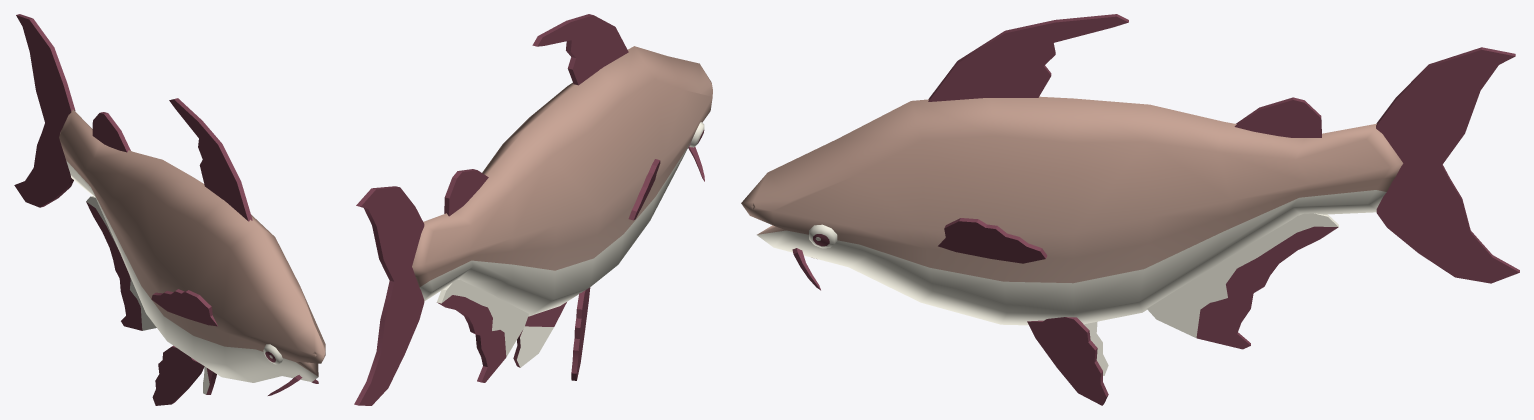
3 views of the same model, side by side, from view 1: azimuth 30°, elevation 25°; view 2: azimuth 150°, elevation 25°; view 3: azimuth 270°, elevation 25° (orthographic). The views are drawn at different scales.
Visible parts, largest first — view 1: Fish_MekongGiantCatfish; view 2: Fish_MekongGiantCatfish; view 3: Fish_MekongGiantCatfish.
Boxes of the visible parts, x1=… form: Fish_MekongGiantCatfish: x1=14, y1=14, x2=325, y2=405; Fish_MekongGiantCatfish: x1=354, y1=14, x2=712, y2=405; Fish_MekongGiantCatfish: x1=741, y1=14, x2=1519, y2=405.
Size of the model in its own units: 29.68 by 78.54 by 148.
